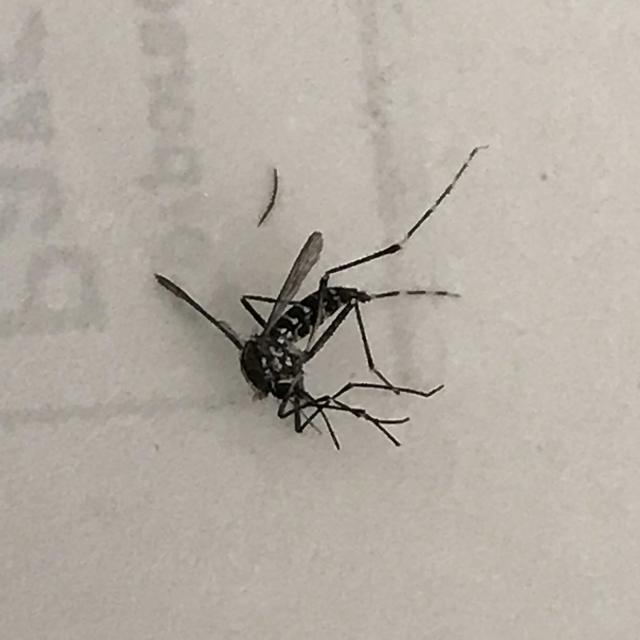albopictus: (143, 132, 478, 453)
